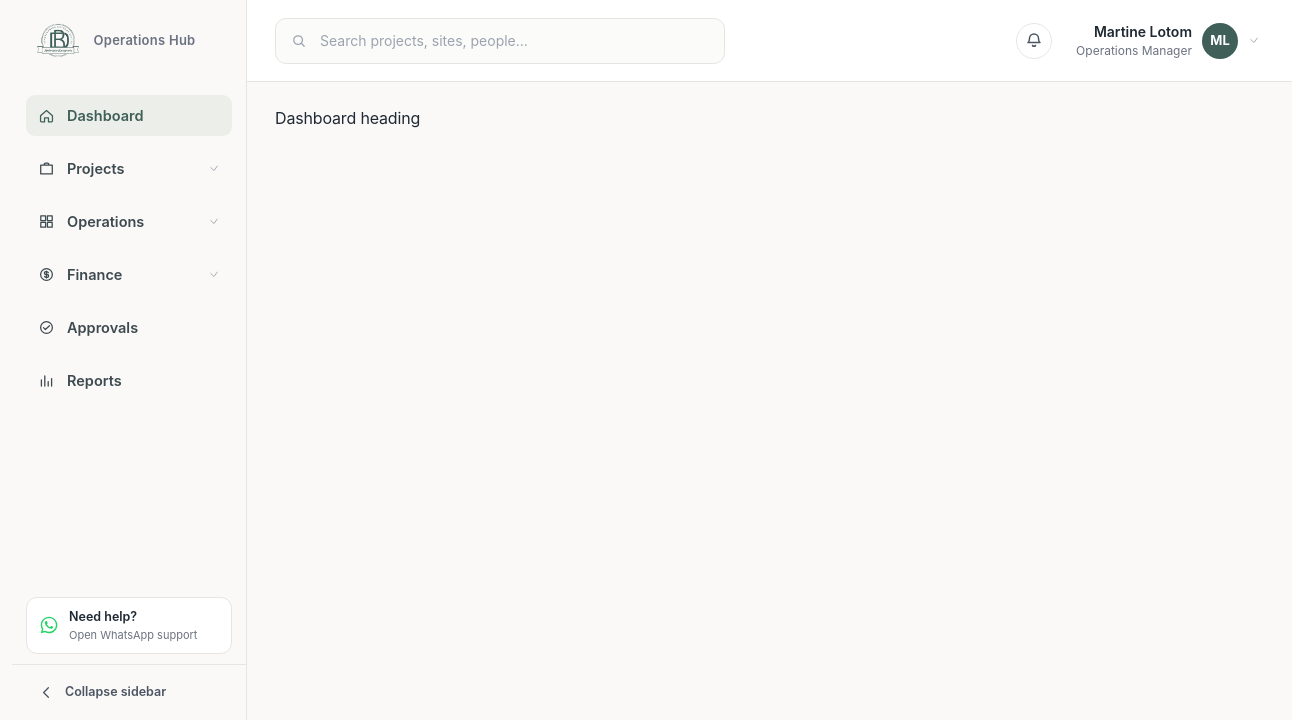
it: Operating-model preserved shell › always identifies the signed-in account, and reveals name and role in the profile menu
Expected: the header named "Martine Lotom, Operations Manager" is shown, x1=247 y1=0 x2=1291 y2=82
Click the button with aria-label "Martine Lotom, Operations Manager".
click(1168, 40)  # box x1=1072 y1=18 x2=1264 y2=62
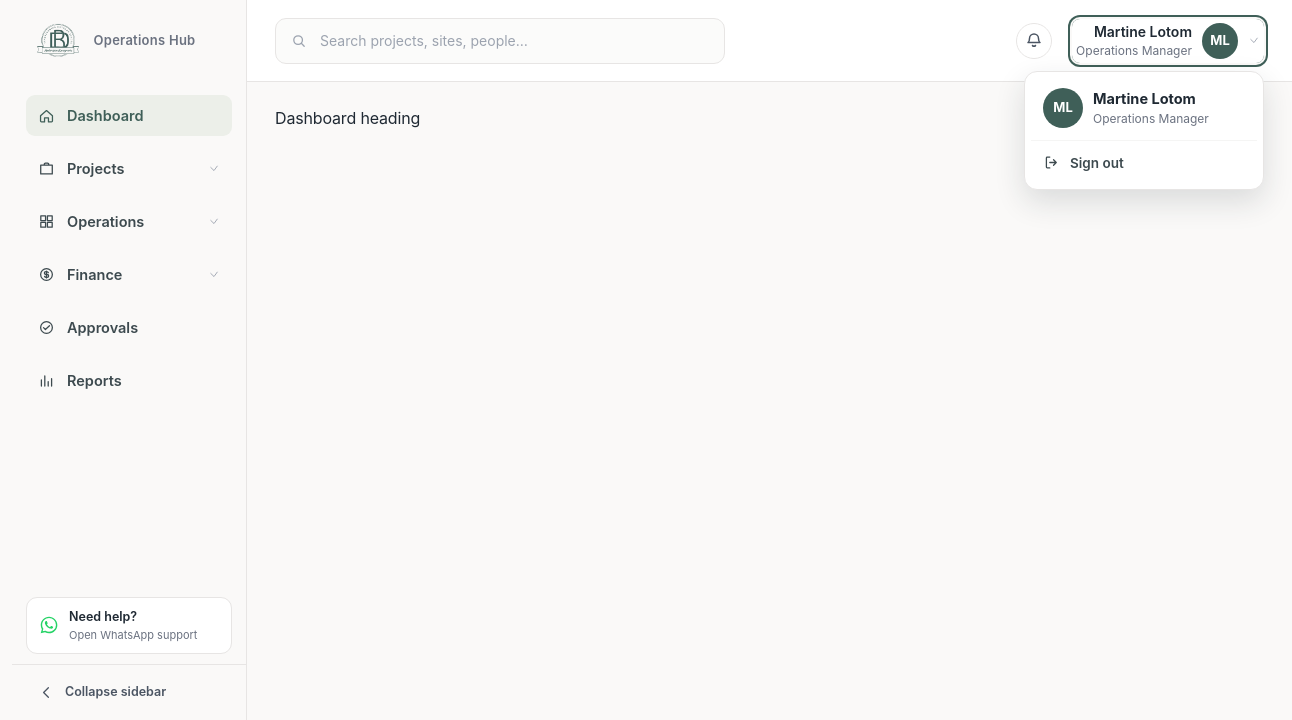
Now the 2nd text "Martine Lotom" is shown, box x1=1093 y1=88 x2=1209 y2=109
Now the 2nd text "Operations Manager" is shown, box x1=1093 y1=111 x2=1209 y2=127
